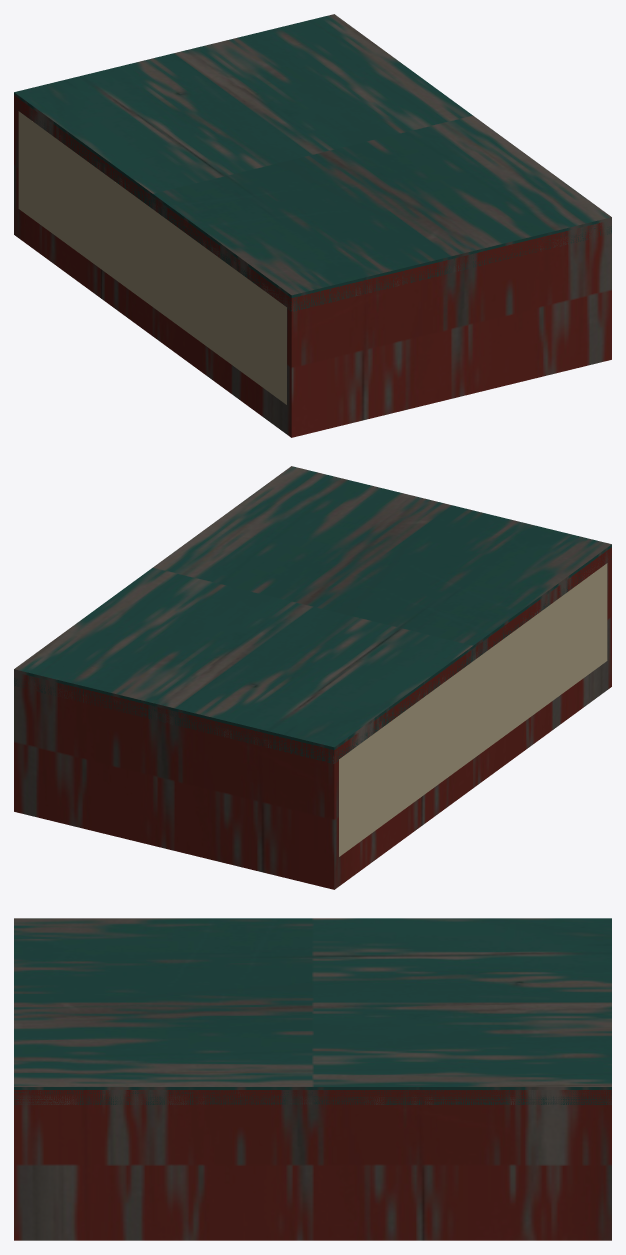
Rendered from SM_FortuneCardDeck_8d11e86443.fbx.
The picture shows the model from 3 angles, top to bottom: view 1: azimuth 30°, elevation 25°; view 2: azimuth 150°, elevation 25°; view 3: azimuth 270°, elevation 25°; orthographic projection. The views are drawn at different scales.
Visible parts, largest first — view 1: SM_FortuneCardDeck_8d11e86443; view 2: SM_FortuneCardDeck_8d11e86443; view 3: SM_FortuneCardDeck_8d11e86443.
Part boxes in pixels (<box>): SM_FortuneCardDeck_8d11e86443: <box>14,14,611,437</box>; SM_FortuneCardDeck_8d11e86443: <box>14,466,611,889</box>; SM_FortuneCardDeck_8d11e86443: <box>14,918,611,1240</box>.
Size of what is drawn, in the model's own units: 12 by 18 by 5.1.
3 materials, 2 textured.
